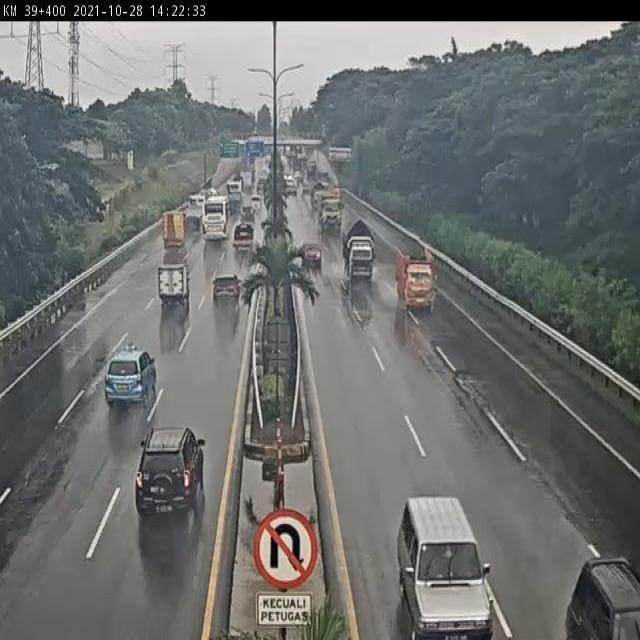bus-l-: (201, 193, 232, 240)
truck-l-: (316, 188, 343, 229)
truck-s-: (395, 248, 436, 316), (341, 216, 375, 281), (161, 207, 187, 252), (231, 220, 257, 255)
